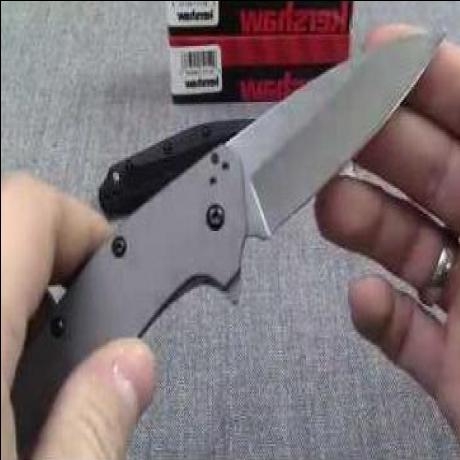weapon: (204, 13, 444, 248)
